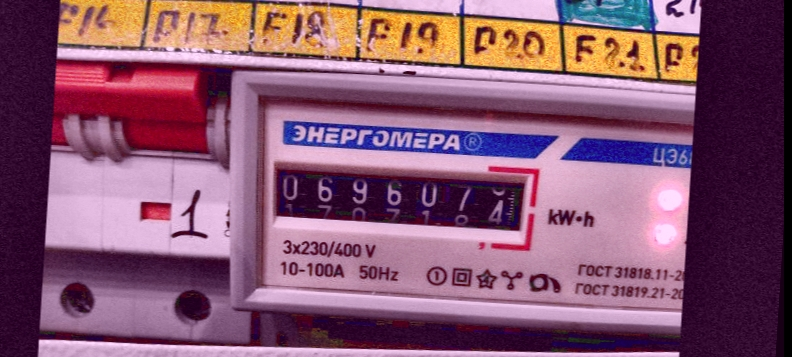0: (418, 178, 439, 209), (280, 172, 299, 202)
4: (487, 198, 504, 226)
6: (383, 178, 404, 208), (315, 174, 335, 203)
7: (454, 182, 473, 213)
9: (350, 177, 368, 206)
screen: (256, 144, 546, 251)
